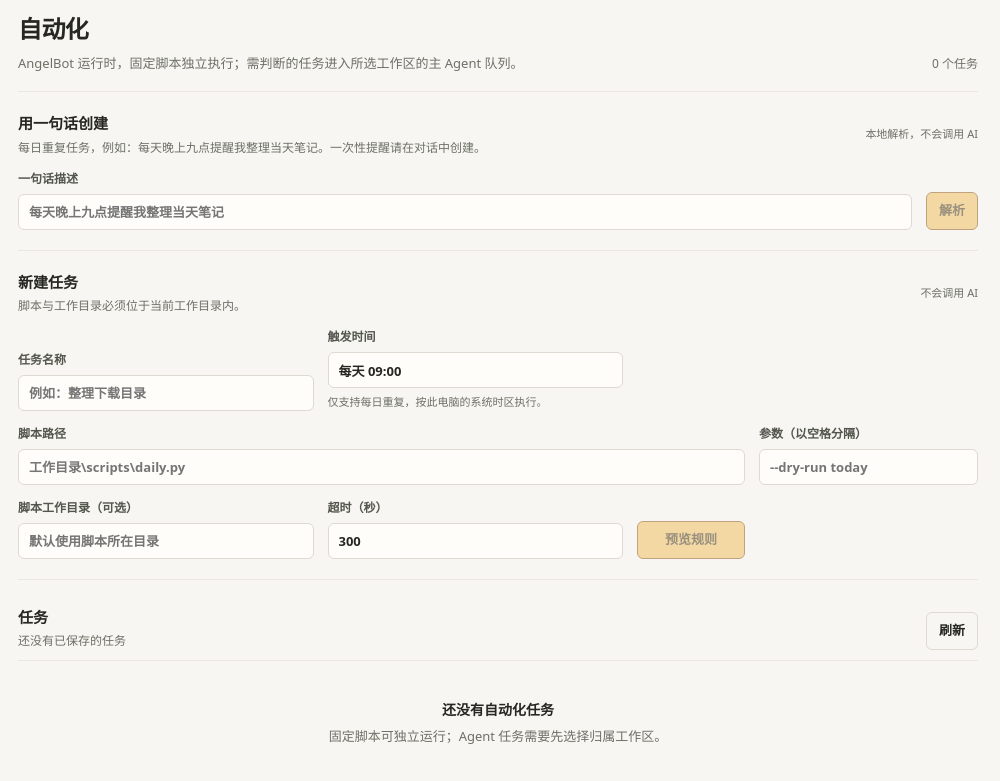
AutomationPage › does not create a daily automation from unsupported timing: 每周一 09:30 提醒我写周报
This screenshot has width=1000, height=781.
Type "每周一 09:30 提醒我写周报" into the field with placeholder "每天晚上九点提醒我整理当天笔记".
click(465, 212); type("每周一 09:30 提醒我写周报")  # box [18,194,912,230]
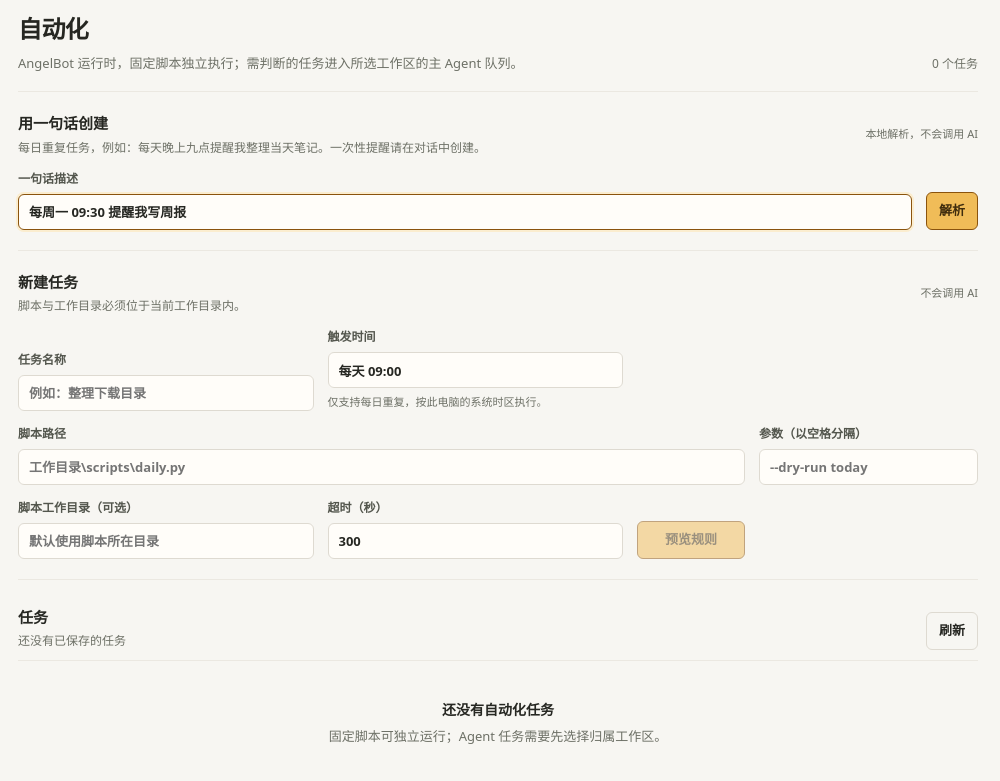
Click the button "解析".
click(952, 211)  # box [926,192,978,230]
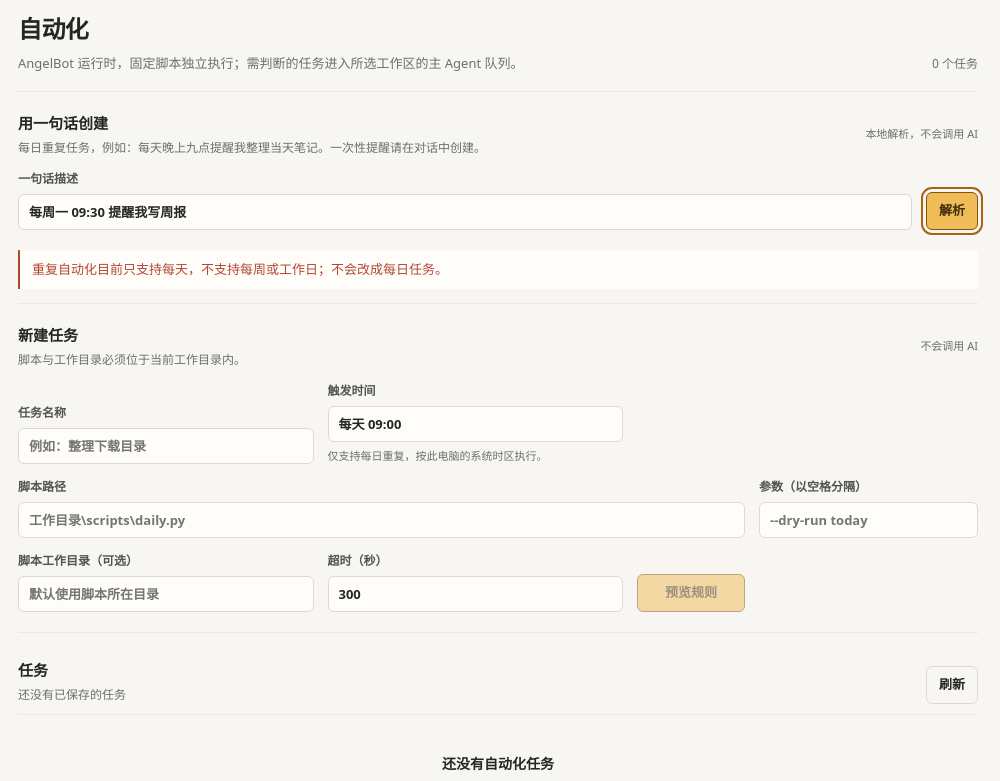
Expected: the message shows "重复自动化目前只支持每天", [32,260,448,278]
